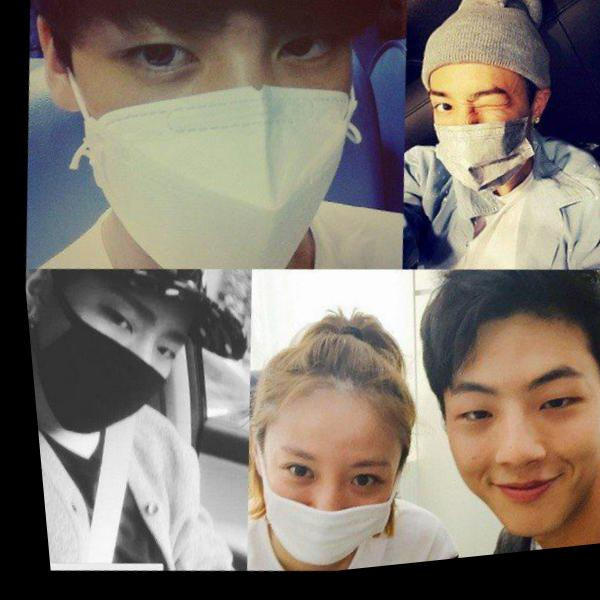NONE: (419, 361, 600, 551)
OK: (47, 1, 370, 298), (32, 279, 213, 462), (412, 78, 539, 207)
WRONG: (228, 399, 409, 582)
